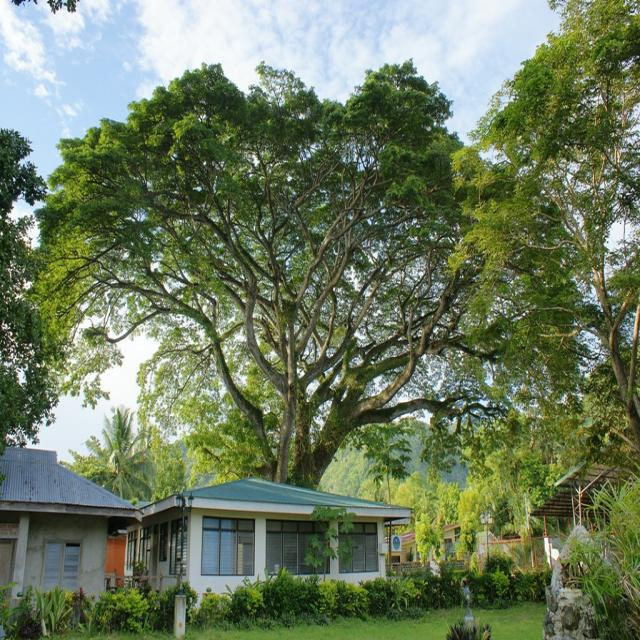Acacia: (40, 57, 514, 473)
